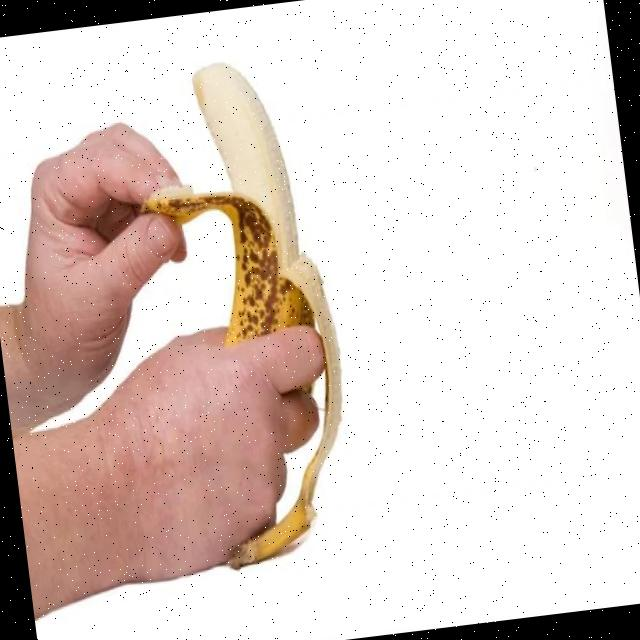banana-peel: (121, 49, 366, 577)
